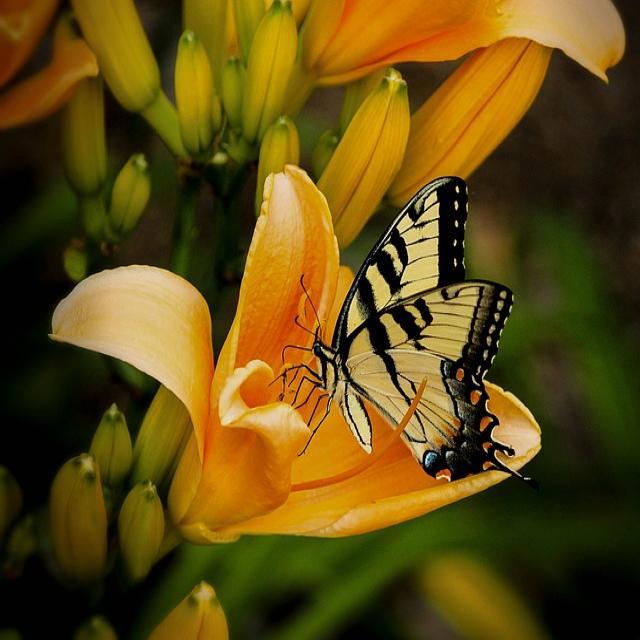butterfly: (314, 177, 525, 481)
